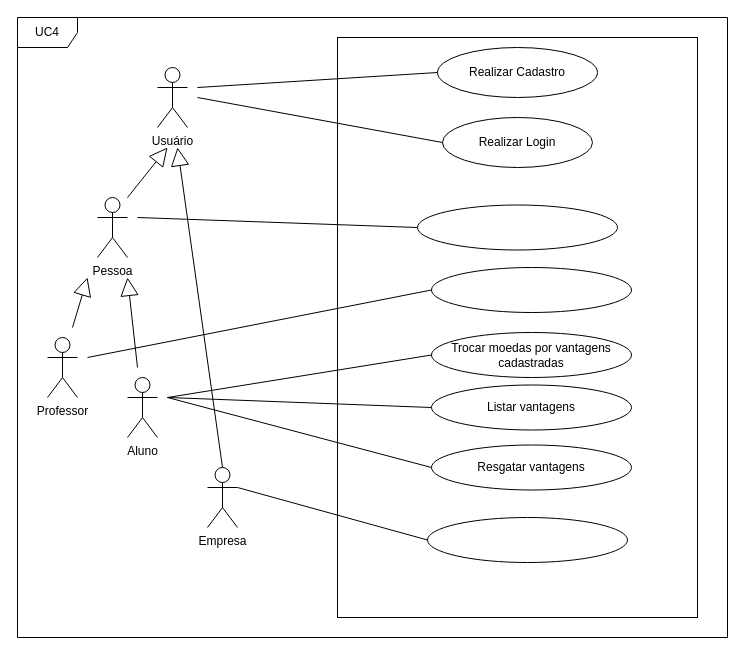
The diagram is 745 pixels wide and 655 high, and some of its shapes have lost their labels. Each missing label, with the centre of its shape:
"Cadastrar vantagens" belongs at (x=527, y=539).
"Consultar extrato da conta" belongs at (x=517, y=227).
"Distribuir moedas" belongs at (x=531, y=289).
